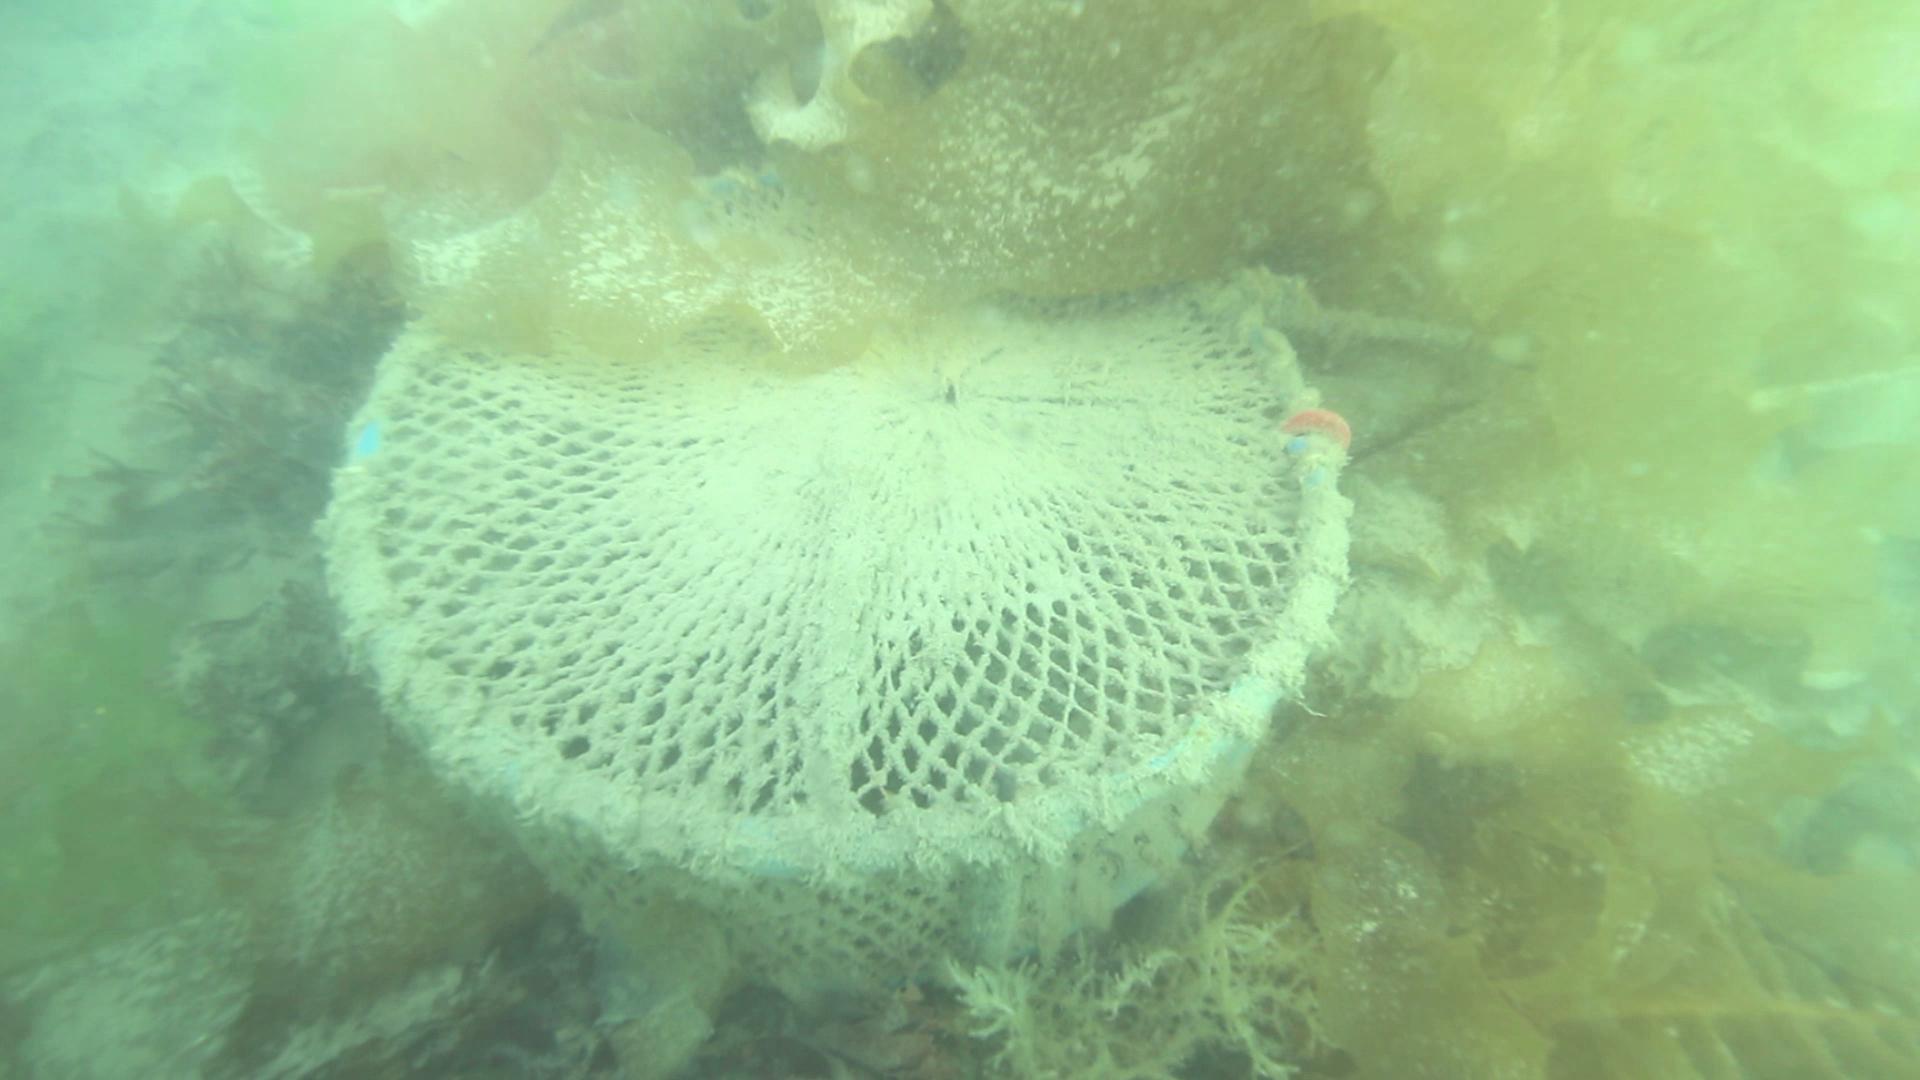circular fish trap: (309, 156, 1358, 998)
